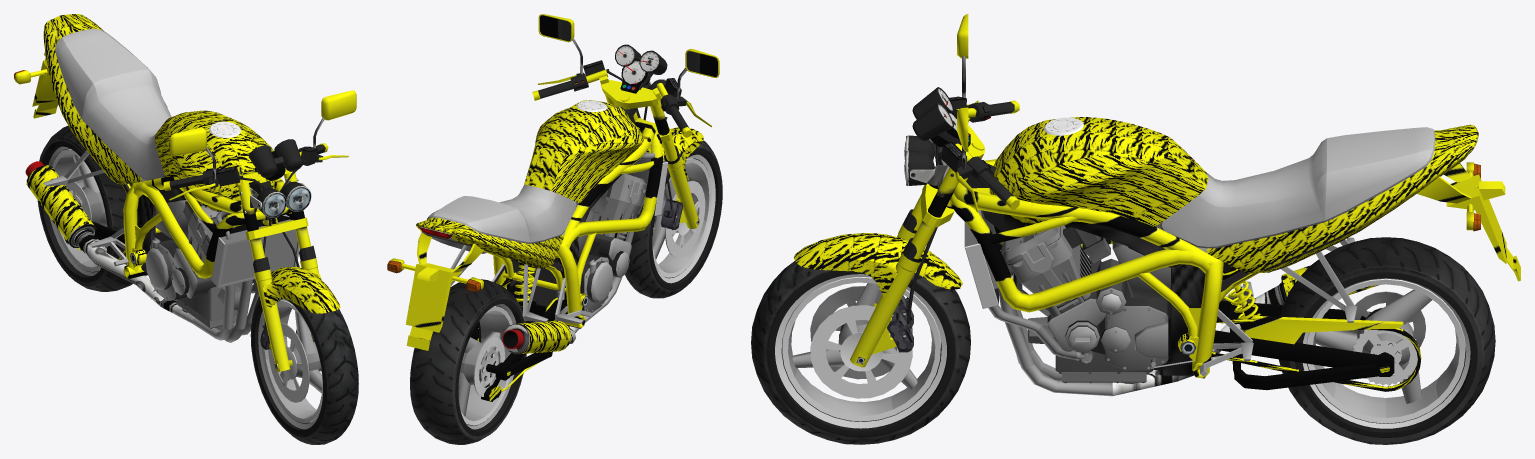
File: SuperMotors_5_.fbx
The picture shows the model from 3 angles, left to right: view 1: azimuth 30°, elevation 25°; view 2: azimuth 150°, elevation 25°; view 3: azimuth 270°, elevation 25°; orthographic projection. The views are drawn at different scales.
Visible parts, largest first — view 1: SuperMotors_5_010, SuperMotors_5_003, SuperMotors_5_001, SuperMotors_5_011, SuperMotors_5_013, SuperMotors_5_009, SuperMotors_5_012, SuperMotors_5_016, SuperMotors_5_017, SuperMotors_5_002, SuperMotors_5_019, SuperMotors_5_020 (+3 smaller); view 2: SuperMotors_5_010, SuperMotors_5_001, SuperMotors_5_003, SuperMotors_5_011, SuperMotors_5_002, SuperMotors_5_017, SuperMotors_5_013, SuperMotors_5_015, SuperMotors_5_009, SuperMotors_5_012, SuperMotors_5_016, SuperMotors_5_020 (+1 smaller); view 3: SuperMotors_5_010, SuperMotors_5_001, SuperMotors_5_003, SuperMotors_5_011, SuperMotors_5_015, SuperMotors_5_013, SuperMotors_5_012, SuperMotors_5_002, SuperMotors_5_017, SuperMotors_5_016, SuperMotors_5_009, SuperMotors_5_014.
Part boxes in pixels (box(x1,y1,x2,y2)): SuperMotors_5_010: box(43, 14, 299, 342); SuperMotors_5_003: box(250, 296, 358, 444); SuperMotors_5_001: box(37, 126, 133, 291); SuperMotors_5_011: box(122, 151, 293, 278); SuperMotors_5_013: box(253, 232, 340, 371); SuperMotors_5_009: box(25, 161, 194, 323); SuperMotors_5_012: box(121, 139, 302, 273); SuperMotors_5_016: box(235, 169, 310, 260); SuperMotors_5_017: box(163, 143, 348, 225); SuperMotors_5_002: box(15, 51, 58, 118); SuperMotors_5_019: box(170, 127, 215, 179); SuperMotors_5_020: box(313, 90, 356, 148); SuperMotors_5_010: box(416, 100, 668, 323); SuperMotors_5_001: box(410, 279, 526, 444); SuperMotors_5_003: box(625, 140, 722, 298); SuperMotors_5_011: box(483, 59, 663, 328); SuperMotors_5_002: box(389, 232, 483, 350); SuperMotors_5_017: box(532, 60, 711, 137); SuperMotors_5_013: box(646, 127, 703, 229); SuperMotors_5_015: box(470, 262, 563, 401); SuperMotors_5_009: box(502, 316, 585, 354); SuperMotors_5_012: box(505, 44, 667, 314); SuperMotors_5_016: box(602, 89, 677, 161); SuperMotors_5_020: box(538, 14, 582, 74); SuperMotors_5_010: box(964, 117, 1478, 396); SuperMotors_5_001: box(1278, 237, 1495, 444); SuperMotors_5_003: box(751, 261, 970, 444); SuperMotors_5_011: box(930, 112, 1258, 378); SuperMotors_5_015: box(1211, 266, 1421, 391); SuperMotors_5_013: box(794, 209, 962, 367); SuperMotors_5_012: box(912, 87, 1255, 375); SuperMotors_5_002: box(1417, 162, 1520, 281); SuperMotors_5_017: box(935, 96, 1019, 212); SuperMotors_5_016: box(911, 141, 984, 259); SuperMotors_5_009: box(1112, 265, 1379, 395); SuperMotors_5_014: box(906, 135, 953, 197).
Size of what is drawn, in the model's own units: 57.14 by 86.85 by 162.
